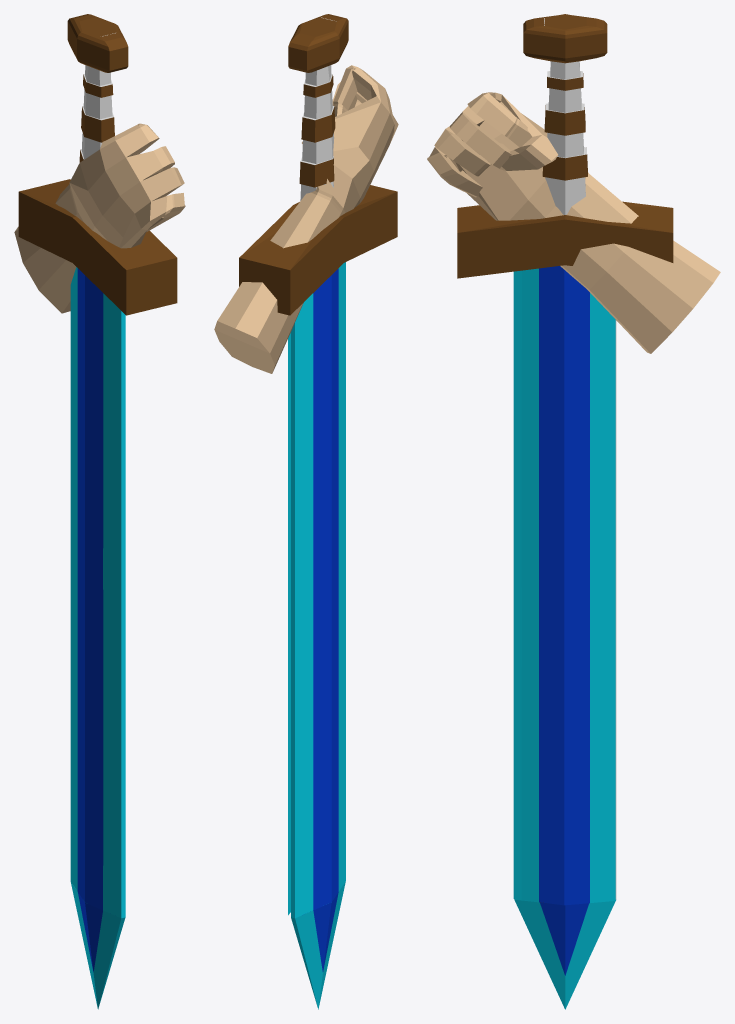
The model's file is Sword-Hand.fbx.
The picture shows the model from 3 angles, left to right: view 1: azimuth 30°, elevation 25°; view 2: azimuth 150°, elevation 25°; view 3: azimuth 270°, elevation 25°; orthographic projection.
Parts seen in each view (by area): view 1: Cube.004, Cube.003; view 2: Cube.004, Cube.003; view 3: Cube.004, Cube.003.
Boxes of the visible parts, x1,y1,x2,y2 form: Cube.004: (18,14,177,1009); Cube.003: (14,123,185,313); Cube.004: (239,14,397,1009); Cube.003: (214,65,398,373); Cube.004: (457,14,673,1009); Cube.003: (427,92,720,353).
Bounding box in the file's own units: 232 × 2788 × 751.
